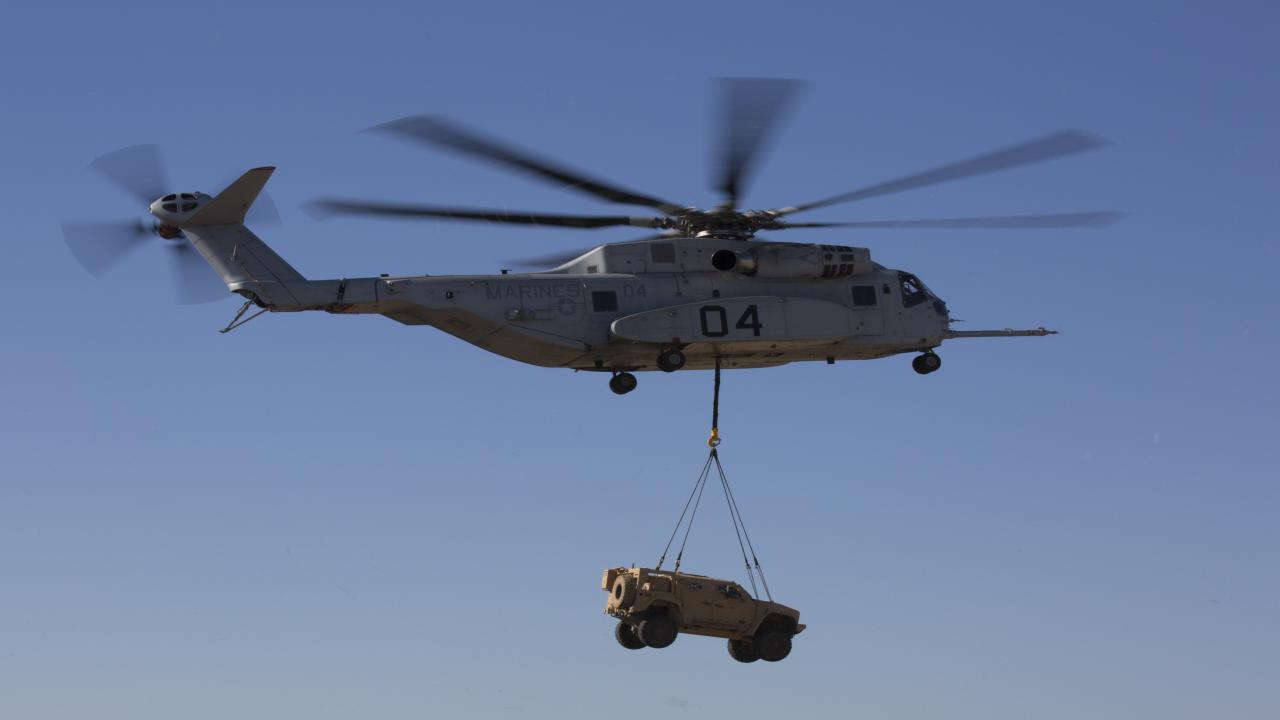Helicopter: (51, 44, 1142, 424)
